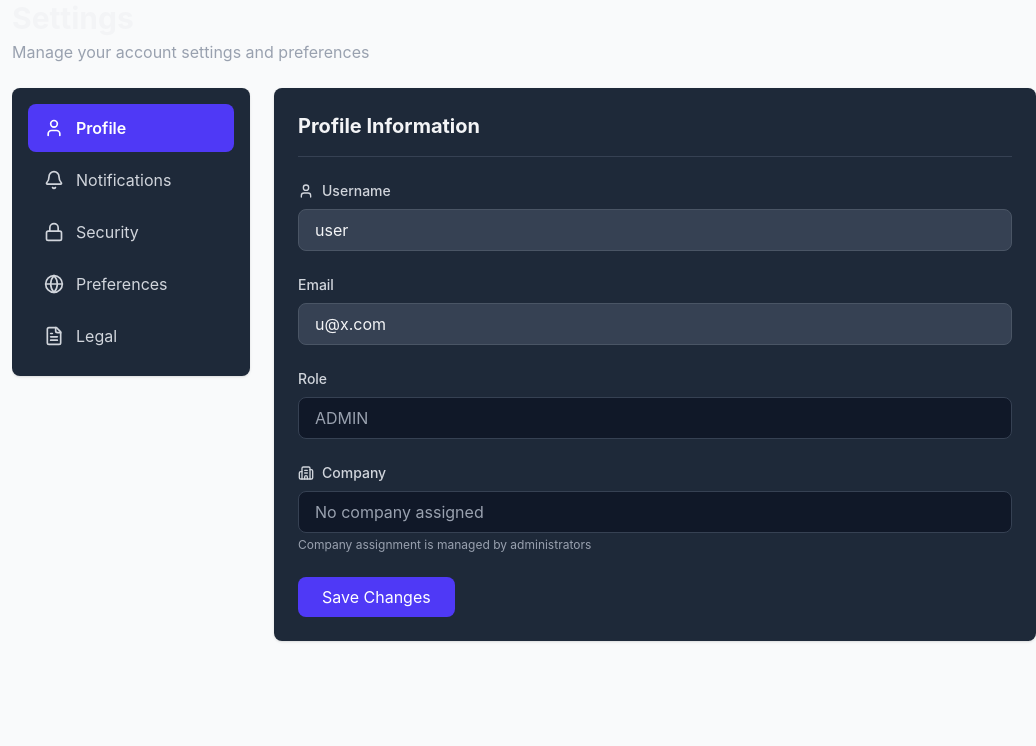
Test: SettingsPage behavior › handles blocklist loading, blocking an email, and unblocking an email
This screenshot has width=1036, height=746.
Click the button "Security": (131, 232) x1=28 y1=208 x2=234 y2=256
(page scrolled)
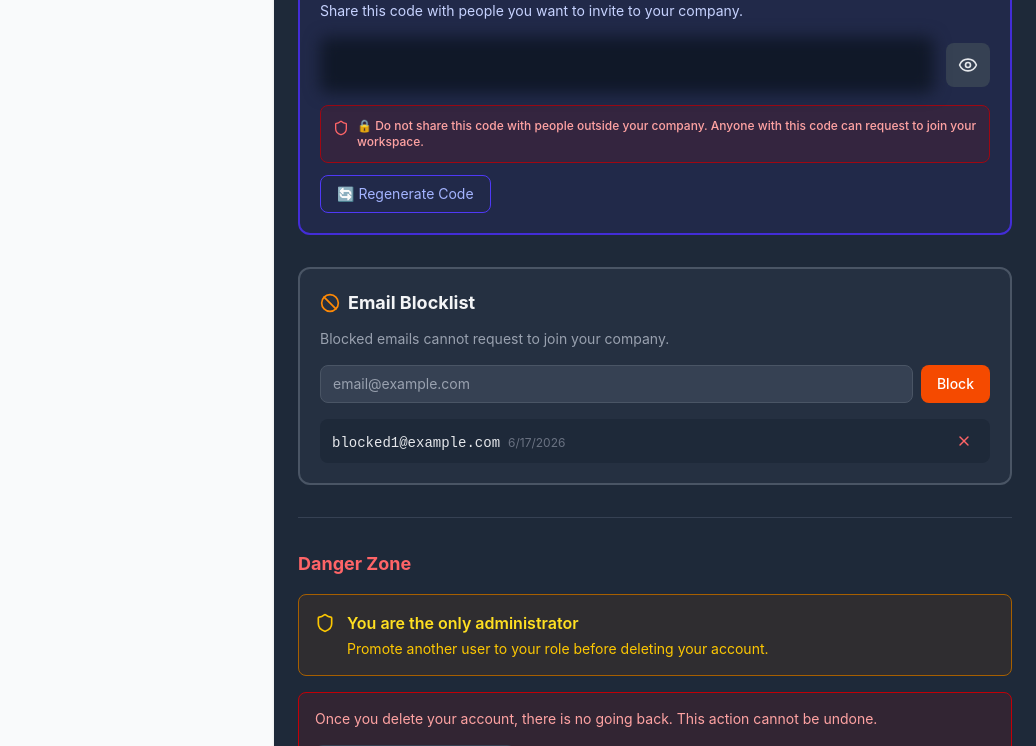
Expected: the text "blocked1@example.com" is shown, x1=332 y1=435 x2=500 y2=451
In the field with placeholder "email@example.com": (616, 384) x1=320 y1=365 x2=913 y2=403, type "blocked2@example.com"
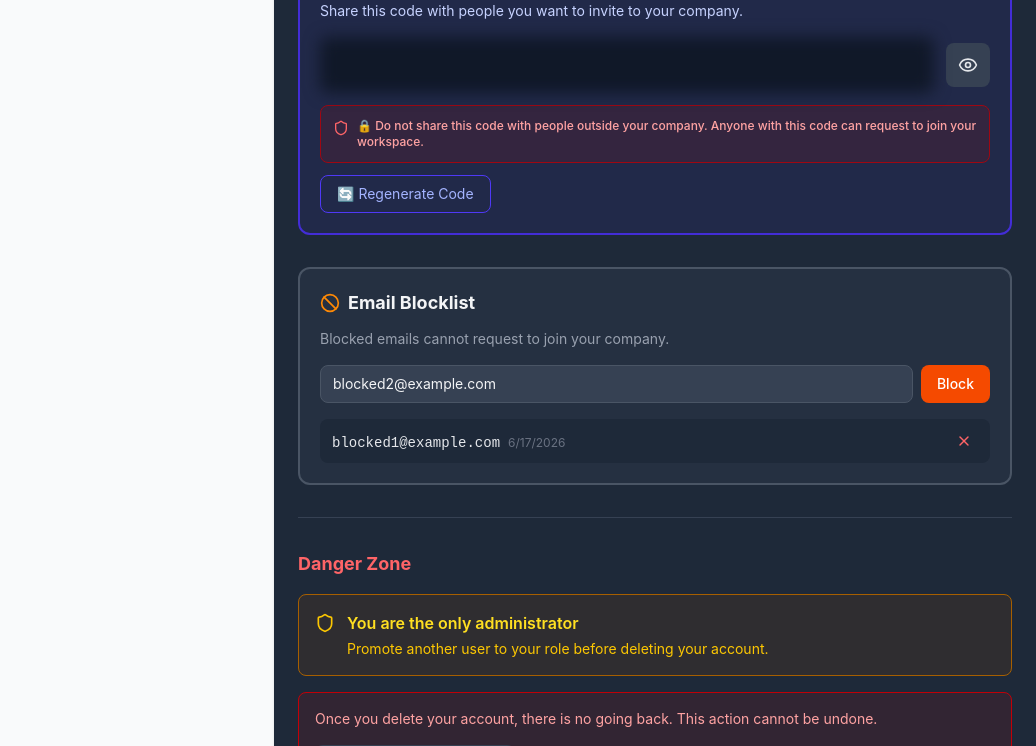
Click the button "Block": (955, 384) x1=921 y1=365 x2=990 y2=403
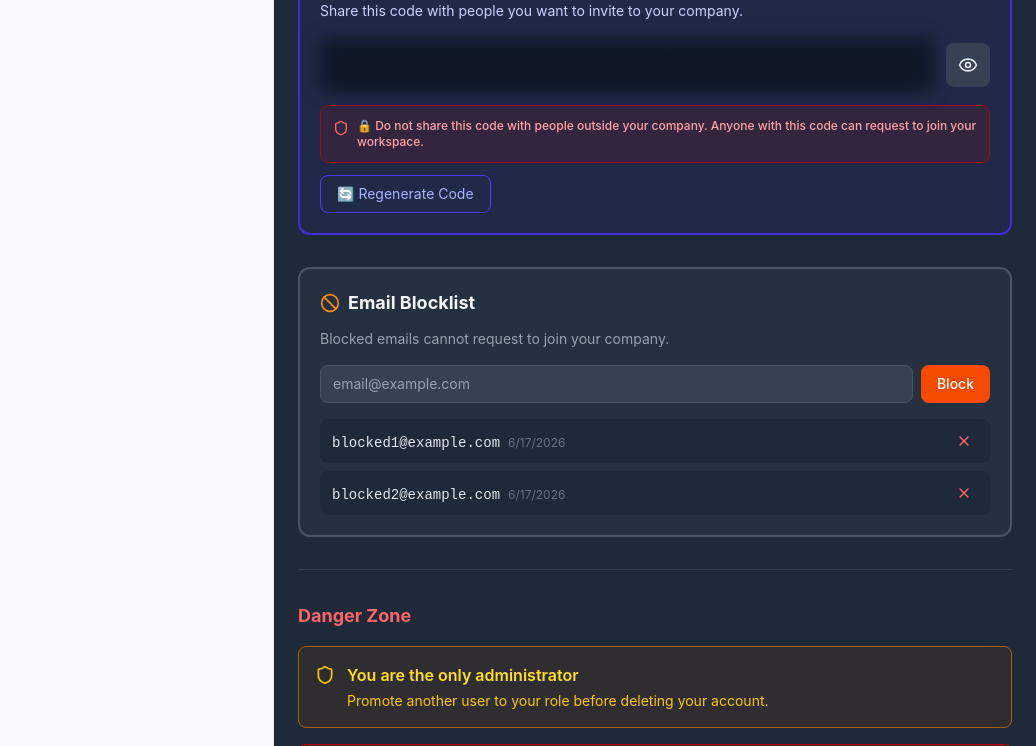
Expected: the text "blocked2@example.com" is shown, x1=332 y1=487 x2=500 y2=503
Click the button titled "Unblock" in the row of "blocked1@example.com": (964, 441) x1=950 y1=427 x2=978 y2=455
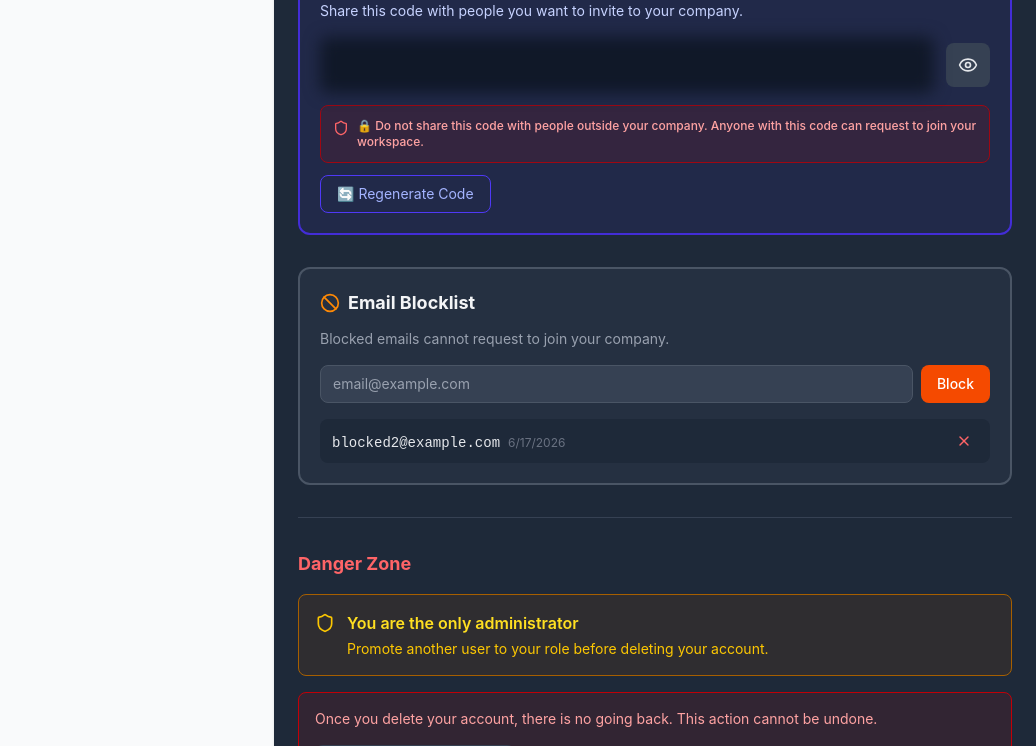
Expected: the text "blocked1@example.com" is gone
